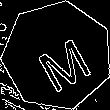M_NW: (24, 22, 90, 89)
